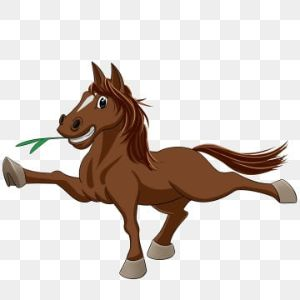horse: (2, 59, 298, 280)
